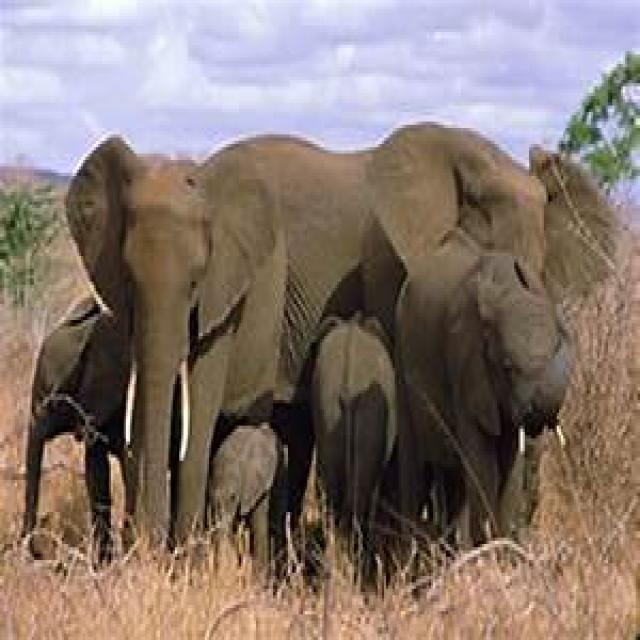elephant: (194, 122, 565, 403), (64, 138, 309, 525), (386, 211, 576, 550), (301, 266, 405, 582), (21, 301, 130, 570)
